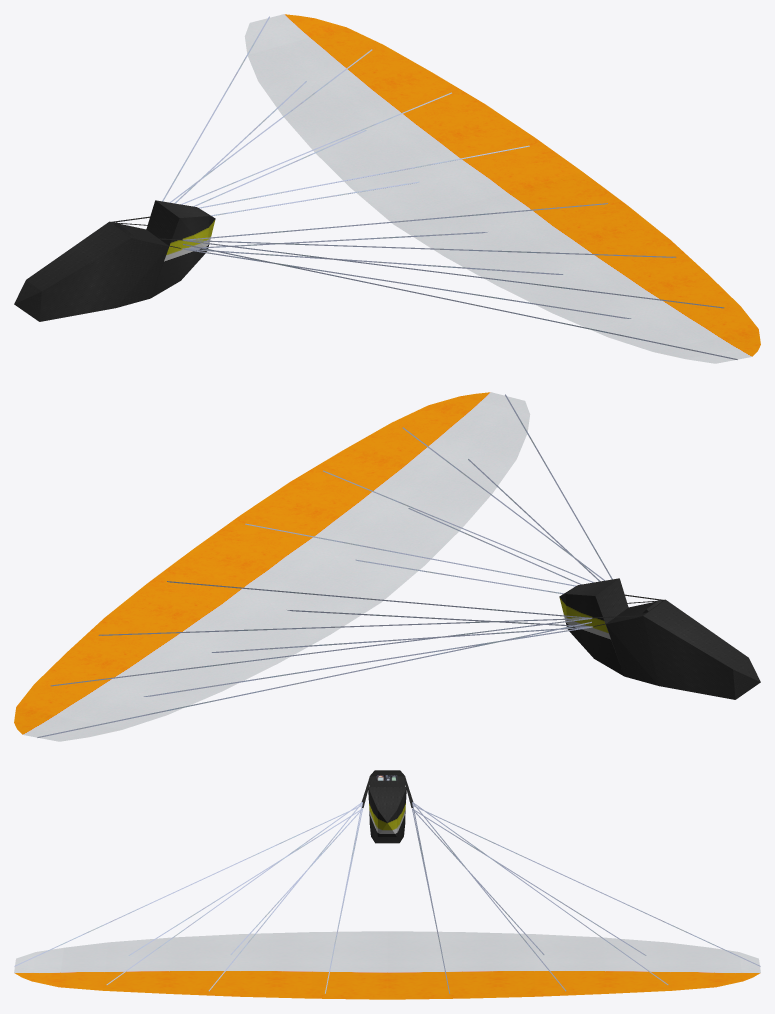
The model's file is paraglider-yellow-launch-cbj_LOD02.gltf.
3 views of the same model, one above another, from view 1: azimuth 30°, elevation 25°; view 2: azimuth 150°, elevation 25°; view 3: azimuth 270°, elevation 25° (orthographic). The views are drawn at different scales.
Parts seen in each view (by area): view 1: wing01.001; view 2: wing01.001; view 3: wing01.001.
Boxes of the visible parts, <box> form: wing01.001: <box>14,14,760,363</box>; wing01.001: <box>14,392,760,741</box>; wing01.001: <box>14,770,760,999</box>.
Bounding box in the file's own units: 7.76 × 1.07 × 11.07.
